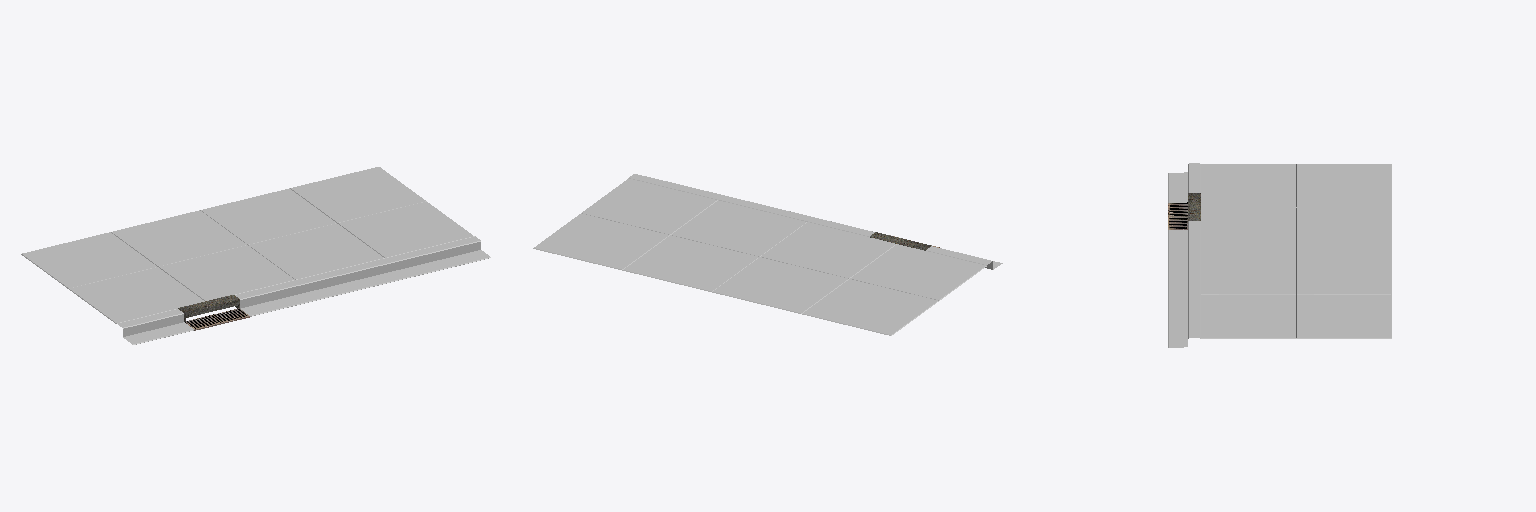
3 renders of one model, left to right at view 1: azimuth 30°, elevation 25°; view 2: azimuth 150°, elevation 25°; view 3: azimuth 270°, elevation 25°, orthographic.
Parts seen in each view (by area): view 1: pCube7_PLAIN_SIDEWALK_0, pCube16_PLAIN_SIDEWALK_0, pCube2_PLAIN_SIDEWALK_0, pCube17_PLAIN_SIDEWALK_0, pCube12_DRAIN_TEXTURE_0; view 2: pCube16_PLAIN_SIDEWALK_0, pCube7_PLAIN_SIDEWALK_0, pCube2_PLAIN_SIDEWALK_0, pCube17_PLAIN_SIDEWALK_0; view 3: pCube7_PLAIN_SIDEWALK_0, pCube16_PLAIN_SIDEWALK_0, pCube2_PLAIN_SIDEWALK_0, pCube17_PLAIN_SIDEWALK_0, pCube12_DRAIN_TEXTURE_0.
Boxes of the visible parts, x1=… form: pCube7_PLAIN_SIDEWALK_0: x1=200, y1=167, x2=474, y2=279; pCube16_PLAIN_SIDEWALK_0: x1=21, y1=210, x2=294, y2=323; pCube2_PLAIN_SIDEWALK_0: x1=297, y1=236, x2=490, y2=301; pCube17_PLAIN_SIDEWALK_0: x1=118, y1=280, x2=311, y2=344; pCube12_DRAIN_TEXTURE_0: x1=178, y1=295, x2=249, y2=330; pCube16_PLAIN_SIDEWALK_0: x1=712, y1=222, x2=986, y2=335; pCube7_PLAIN_SIDEWALK_0: x1=533, y1=178, x2=806, y2=291; pCube2_PLAIN_SIDEWALK_0: x1=629, y1=174, x2=822, y2=221; pCube17_PLAIN_SIDEWALK_0: x1=808, y1=218, x2=1002, y2=269; pCube7_PLAIN_SIDEWALK_0: x1=1201, y1=251, x2=1391, y2=338; pCube16_PLAIN_SIDEWALK_0: x1=1201, y1=164, x2=1391, y2=250; pCube2_PLAIN_SIDEWALK_0: x1=1168, y1=251, x2=1200, y2=347; pCube17_PLAIN_SIDEWALK_0: x1=1168, y1=163, x2=1200, y2=259; pCube12_DRAIN_TEXTURE_0: x1=1168, y1=193, x2=1200, y2=229.
Bounding box in the file's own units: 25.34 × 0.719 × 13.7.
Materials: 2 (1 with a texture image).